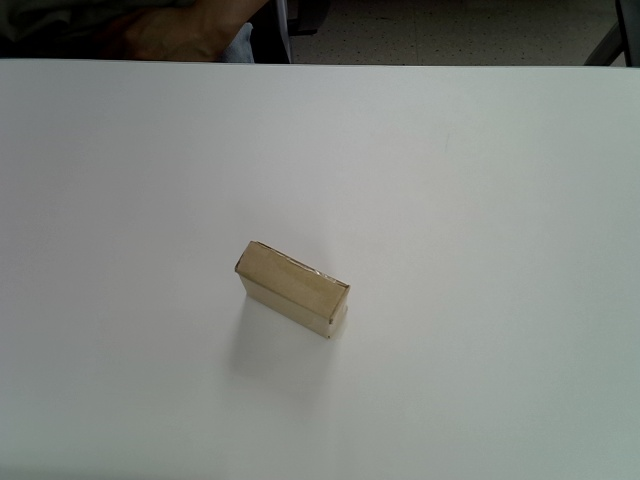normal: (234, 240, 353, 340)
